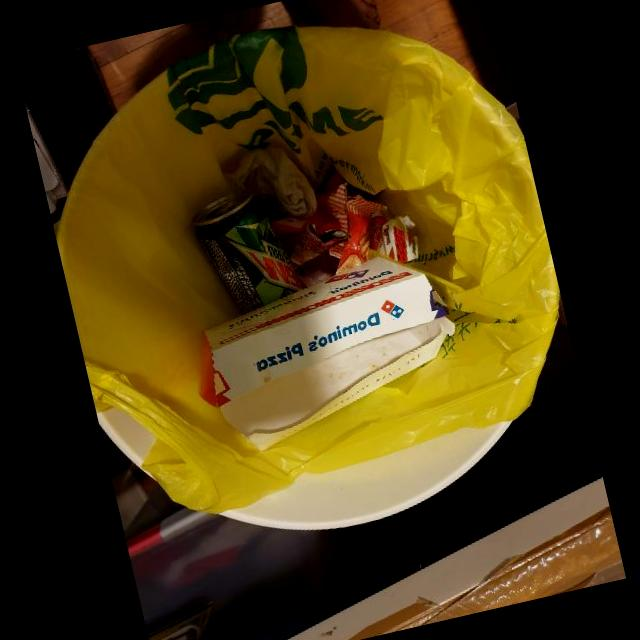bao_bi_thuc_pham: (289, 222, 351, 268), (369, 210, 418, 263)
carton: (202, 256, 454, 450)
giay: (222, 147, 316, 218)
nhom: (191, 191, 300, 313)
